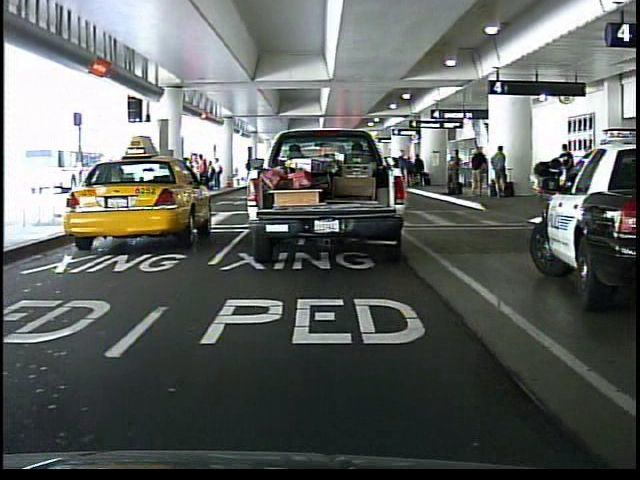person: (332, 141, 365, 221), (389, 143, 415, 211), (555, 139, 578, 200), (242, 154, 258, 190)
